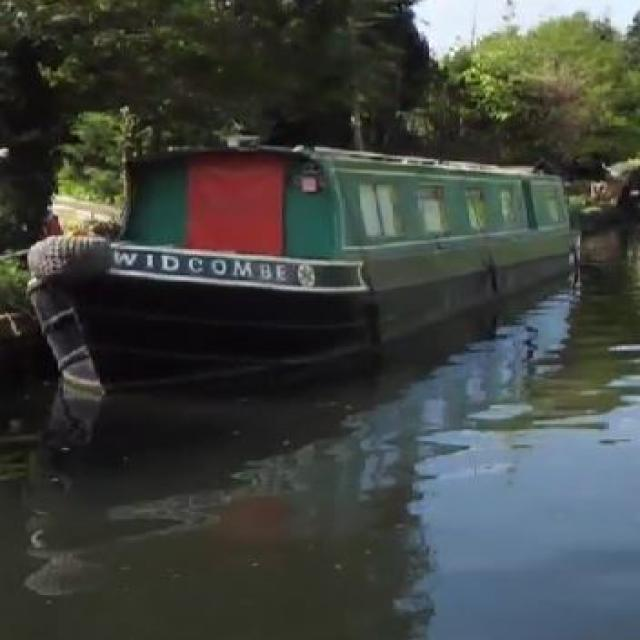boat: (34, 144, 574, 337)
